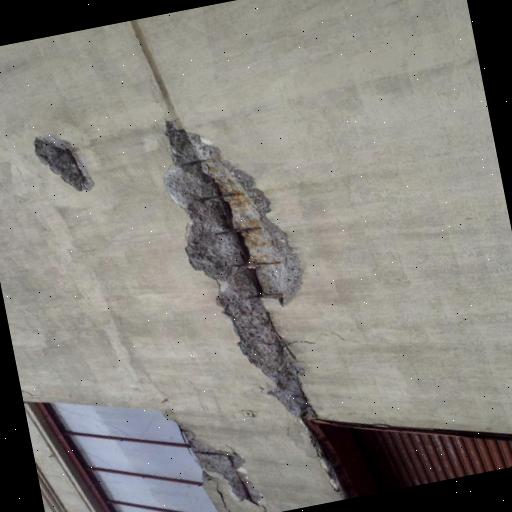spalling: (164, 126, 318, 418), (184, 431, 262, 508), (35, 134, 96, 195)
